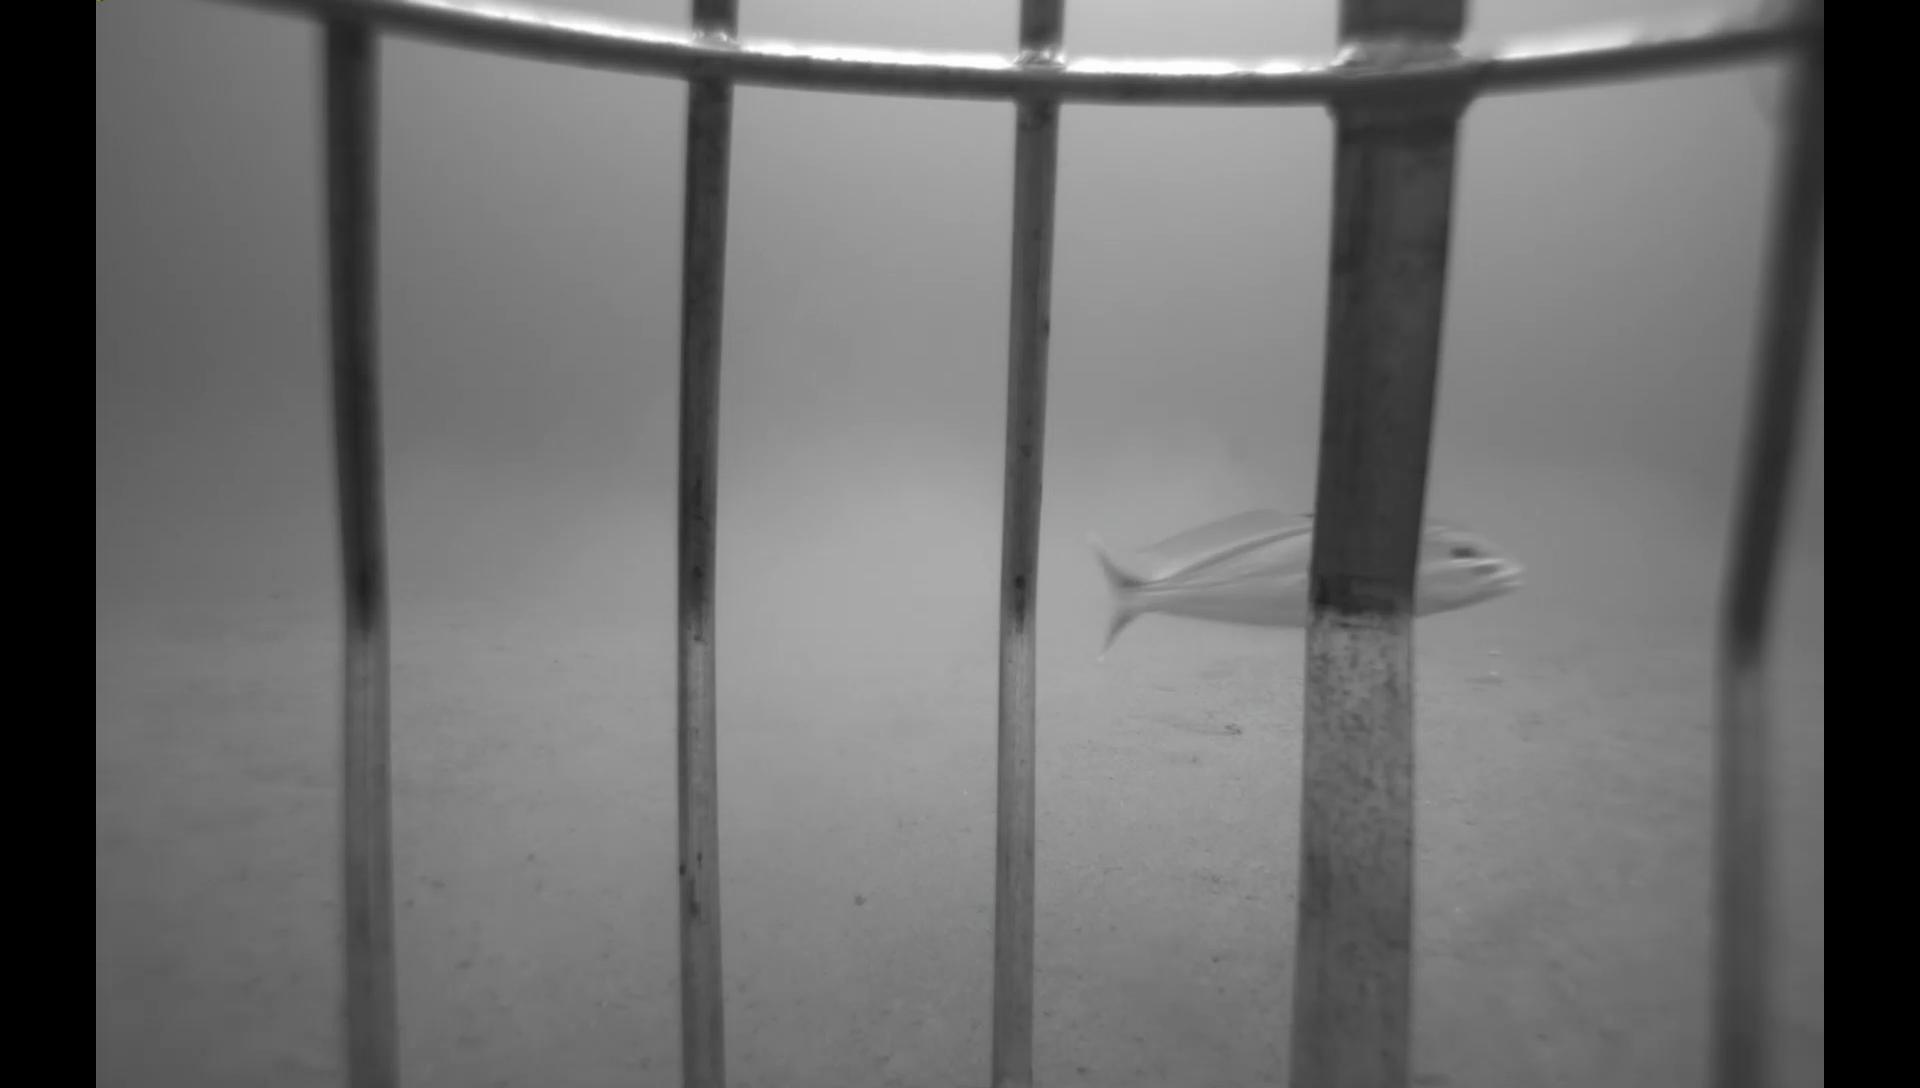CAULOLATILUSCYANOPS-170070101: (1083, 502, 1552, 677)
PRISTIPOMOIDES-170151800: (119, 589, 257, 657)
SYACIUM-183011000: (1143, 699, 1249, 742)
